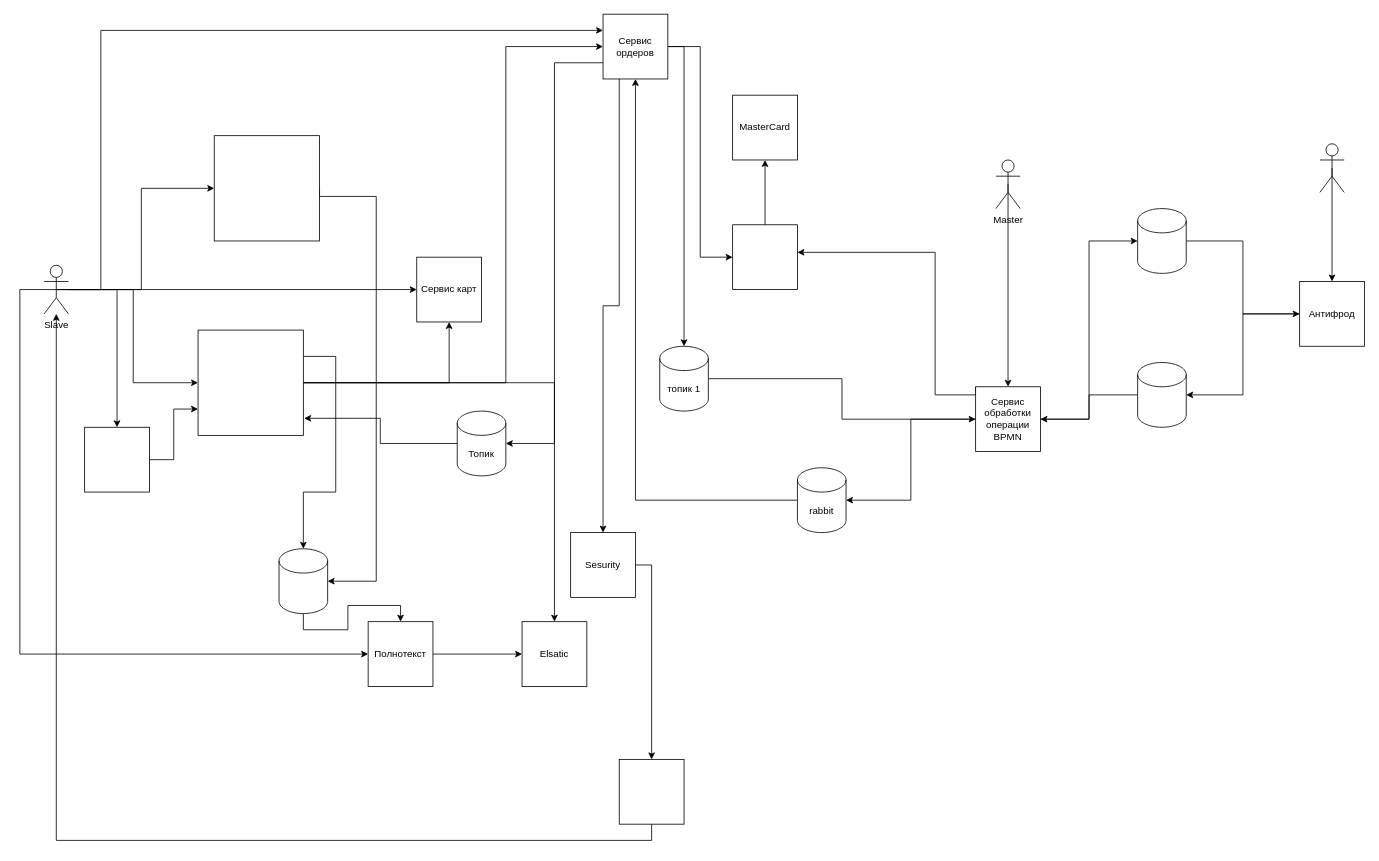
Image size: 1379x861. Some labels were removed from this diagram. The box of each missing label's shape, as (x1, y1, x2, y2) in pixels:
Billy: (1319, 143, 1344, 192)
Hyota: (618, 759, 684, 824)
Topic: (278, 548, 328, 614)
Процессинг: (732, 224, 797, 290)
Сервис операций: (197, 329, 303, 435)
Сервис чеков: (84, 426, 149, 492)
Сервис шаблонов операций: (213, 135, 320, 241)
